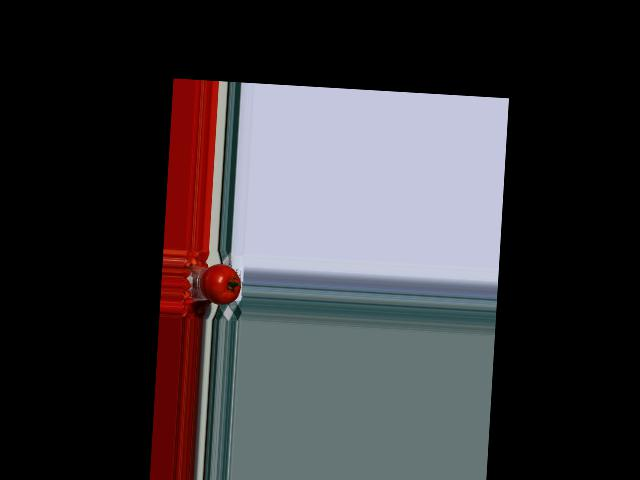tomato: (200, 262, 242, 306)
